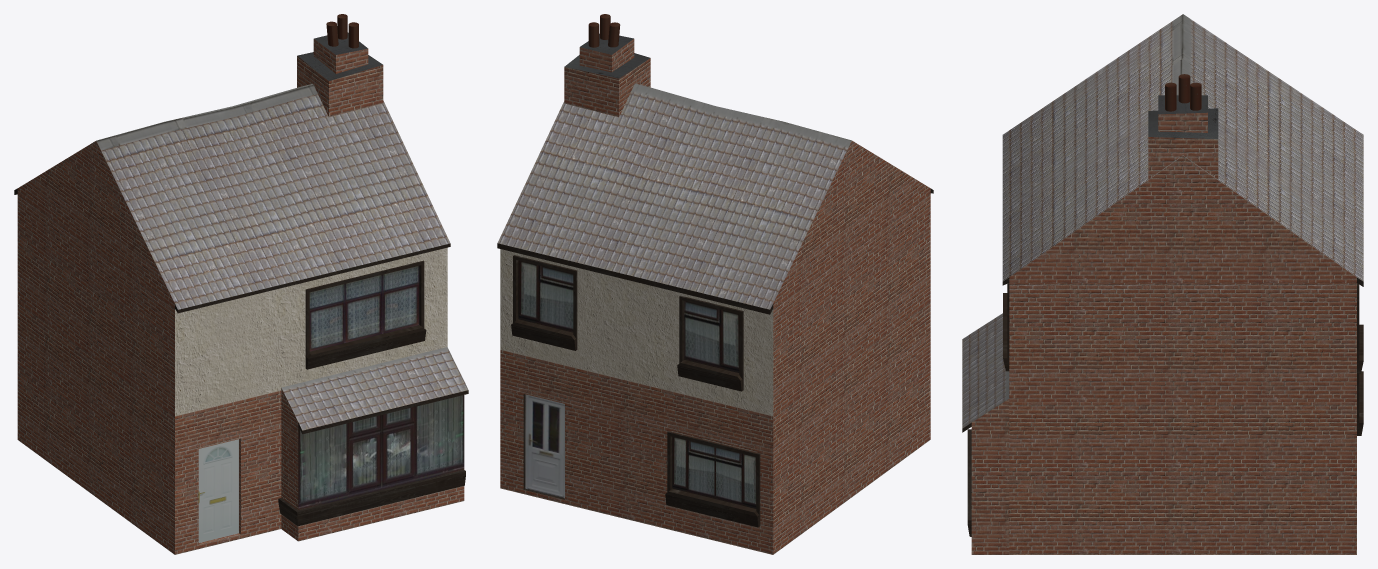
Rendered from terraced3cm.FBX.
3 renders of one model, left to right at view 1: azimuth 30°, elevation 25°; view 2: azimuth 150°, elevation 25°; view 3: azimuth 270°, elevation 25°, orthographic. The views are drawn at different scales.
Parts seen in each view (by area): view 1: Box001; view 2: Box001; view 3: Box001.
Boxes of the visible parts, bbox=[...] form: Box001: bbox=[14, 14, 468, 554]; Box001: bbox=[497, 14, 933, 554]; Box001: bbox=[962, 14, 1363, 554].
Bounding box in the file's own units: 800 × 1165 × 924.
